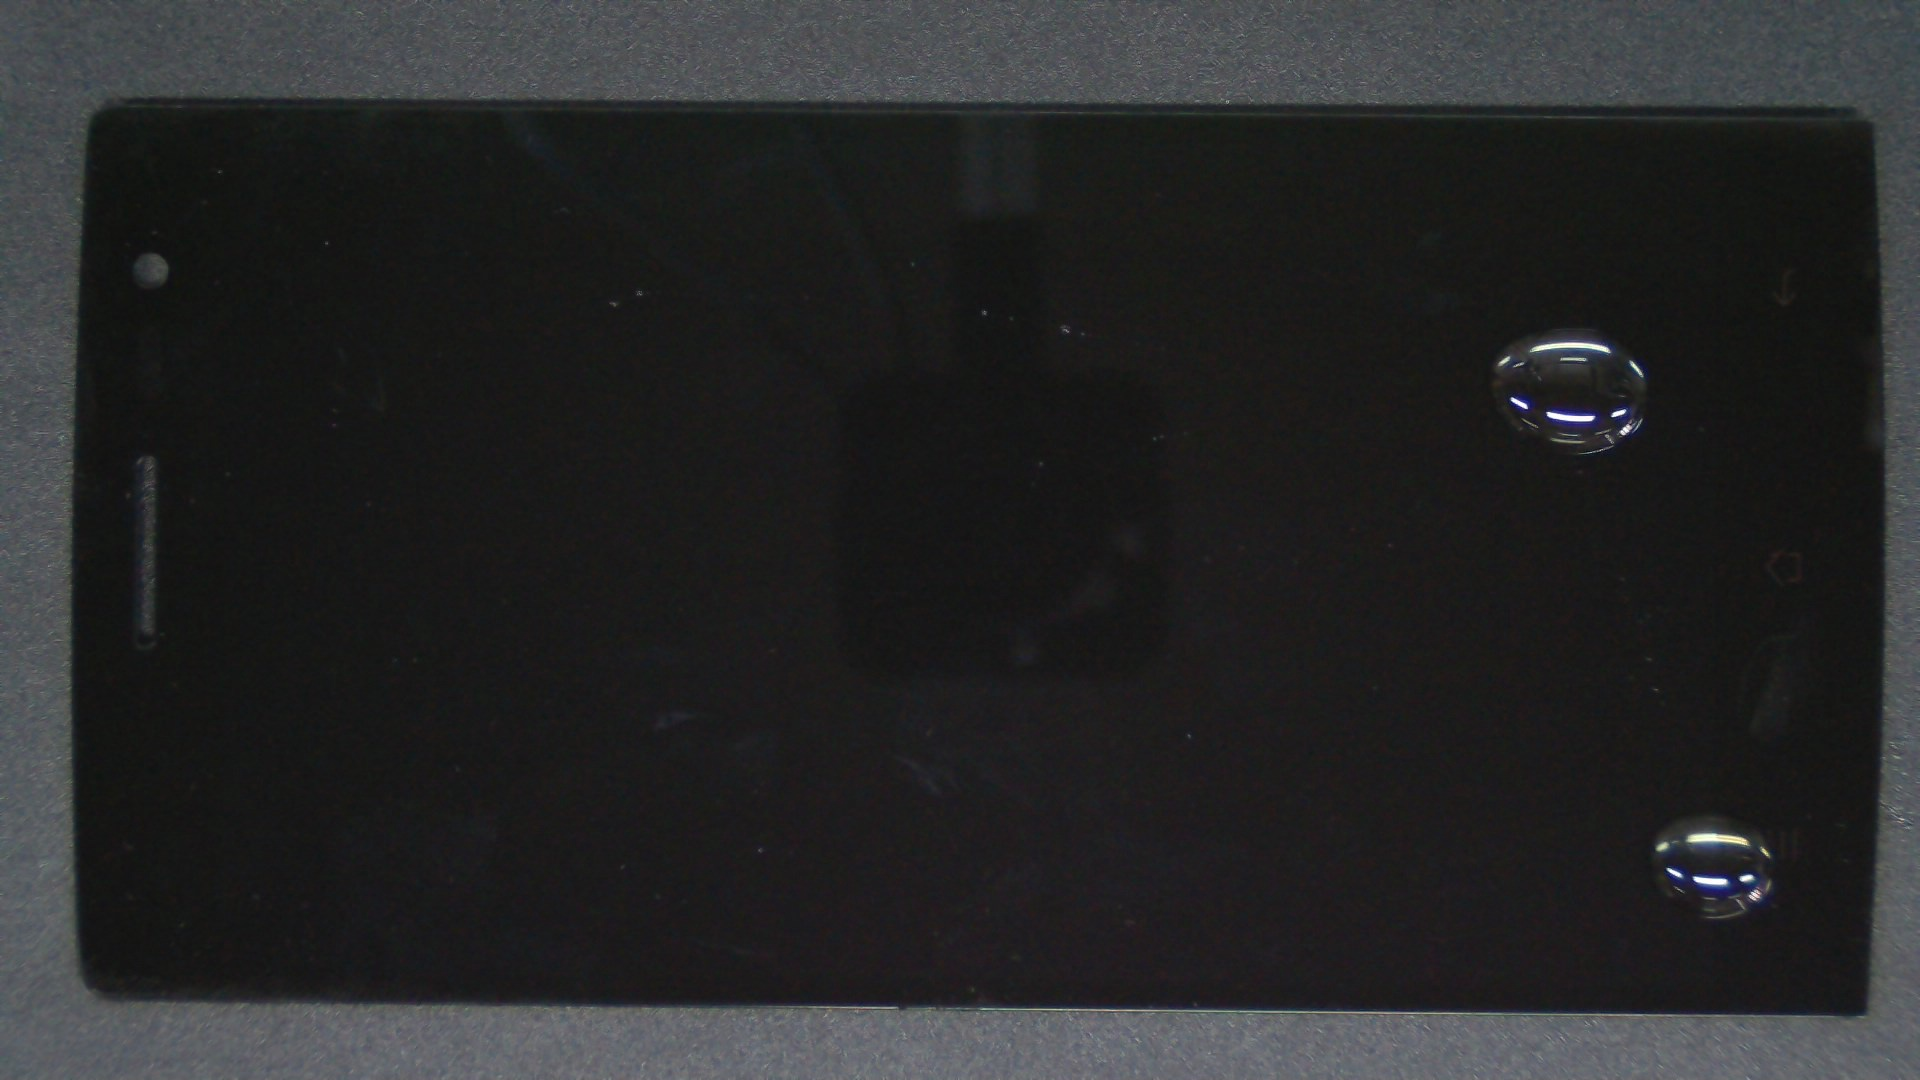oil: (853, 407, 1920, 1080), (782, 164, 1920, 495)
